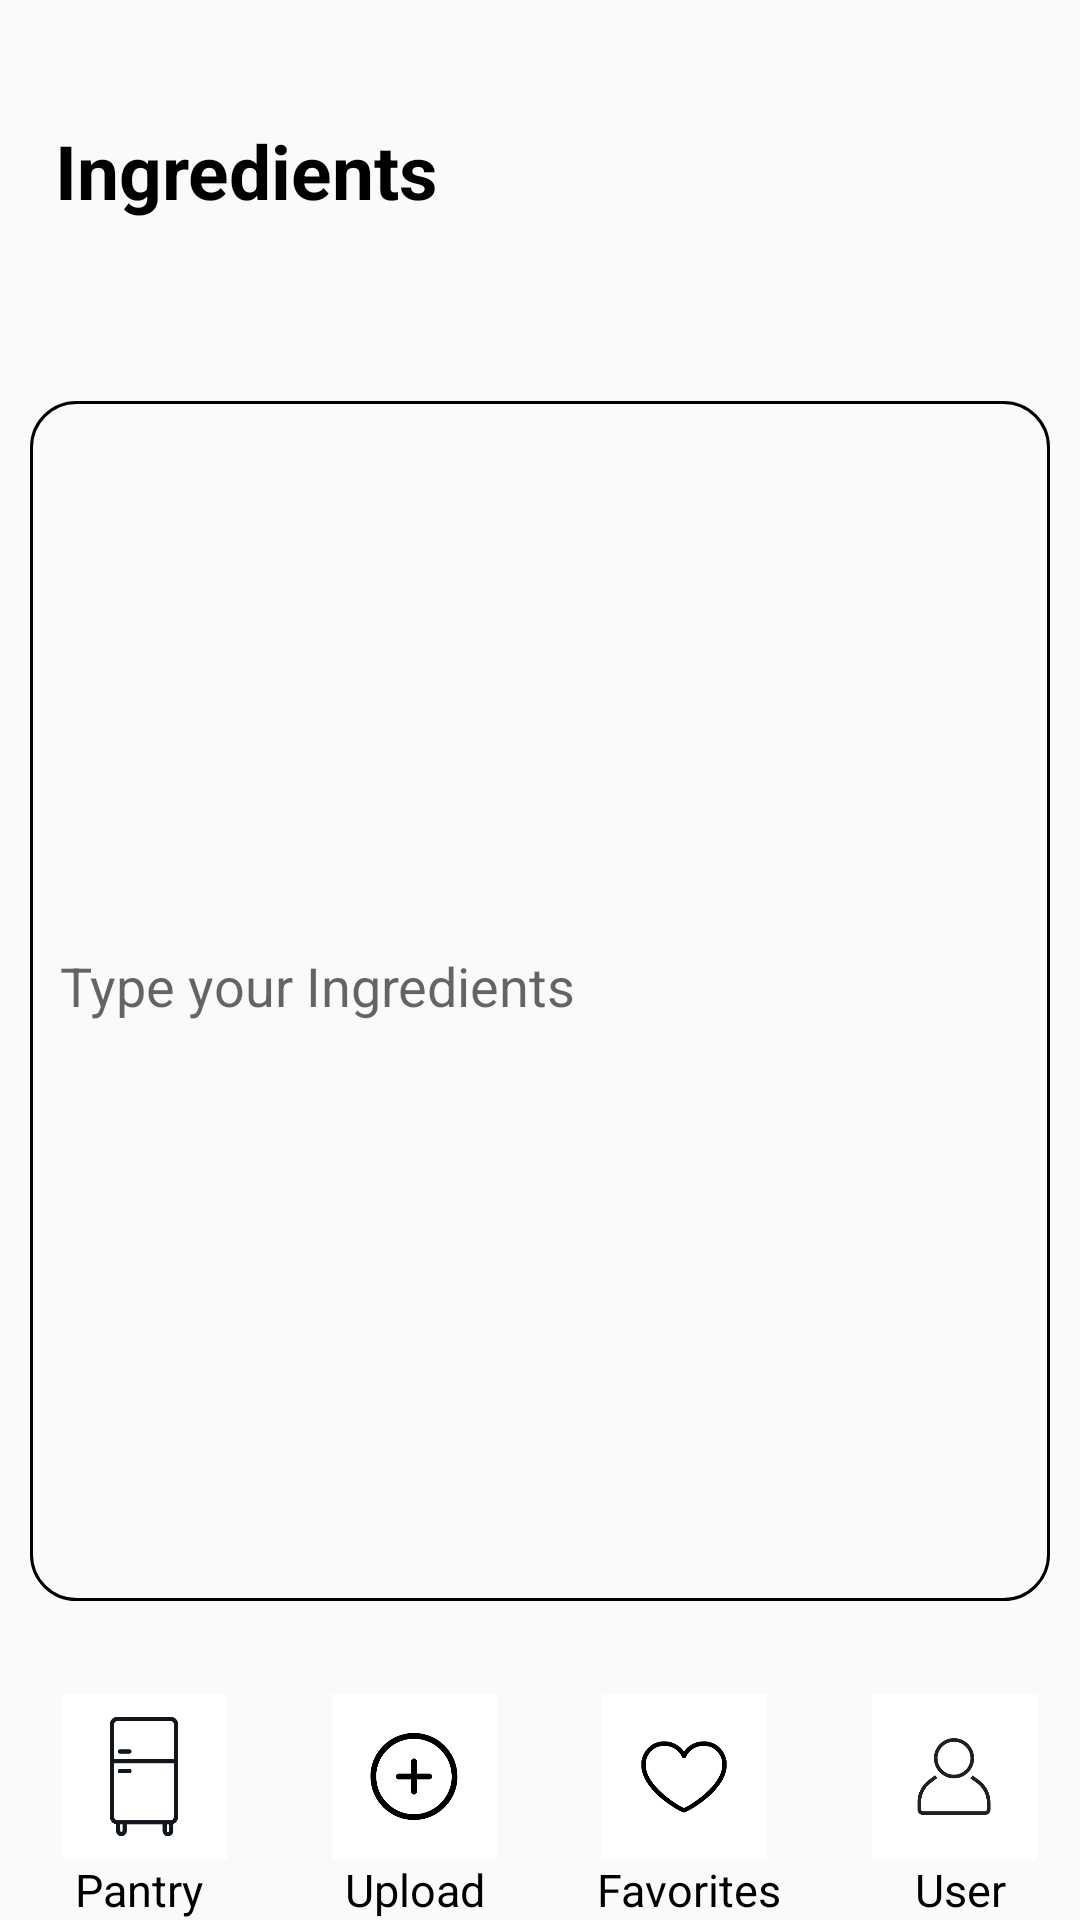

Named icons in this screenshot (1080w x 1920h) and their bounding boxes, (x1=x1, y1=y1, x2=x2, y2=y2):
acc: (x1=917, y1=1738, x2=991, y2=1815)
add: (x1=370, y1=1733, x2=458, y2=1820)
